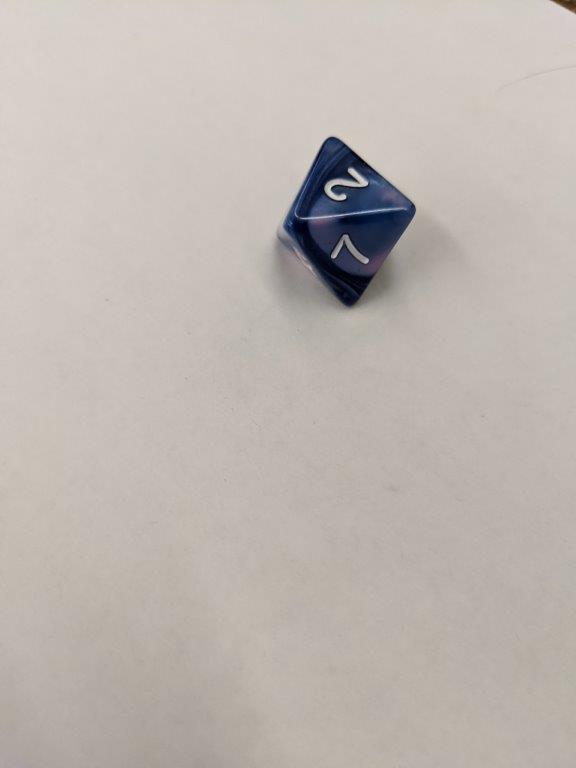d8-2: (275, 136, 416, 308)
